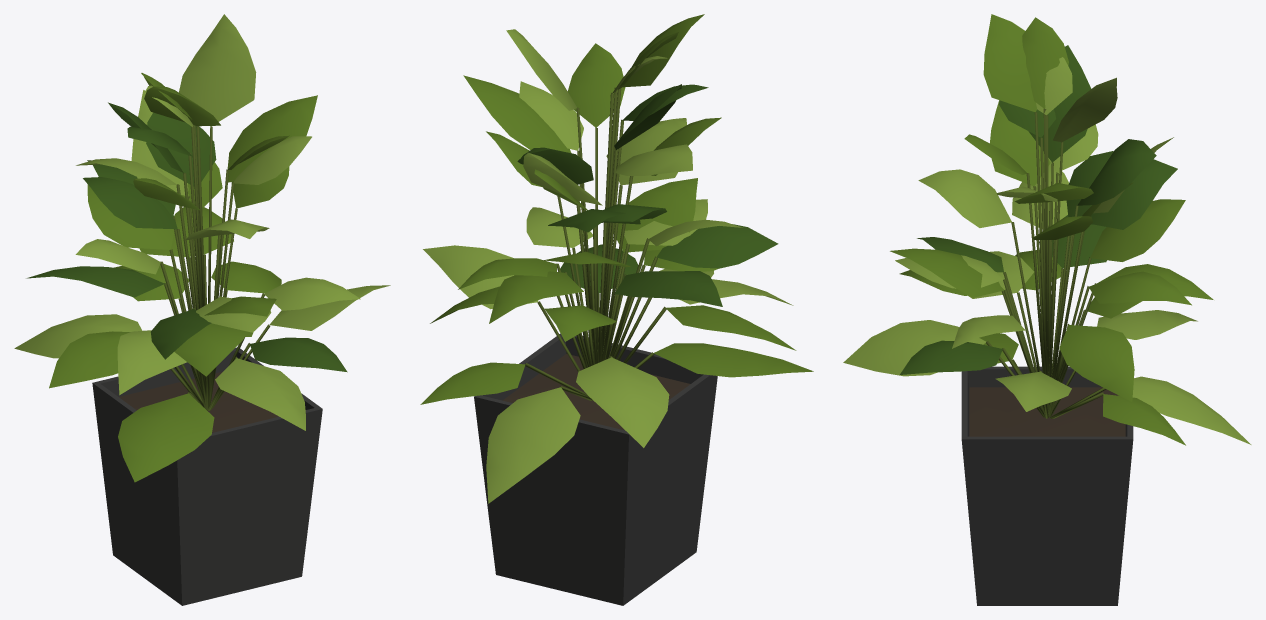
The model's file is greenery.medium-plant.glb.
3 views of the same model, side by side, from view 1: azimuth 30°, elevation 25°; view 2: azimuth 150°, elevation 25°; view 3: azimuth 270°, elevation 25° (orthographic). The views are drawn at different scales.
Parts seen in each view (by area): view 1: greenery.medium-plant.001; view 2: greenery.medium-plant.001; view 3: greenery.medium-plant.001.
Boxes of the visible parts, x1,y1,x2,y2 form: greenery.medium-plant.001: (14,14,390,605); greenery.medium-plant.001: (420,14,813,605); greenery.medium-plant.001: (843,14,1251,605).
Bounding box in the file's own units: 0.6 × 0.85 × 0.6.
